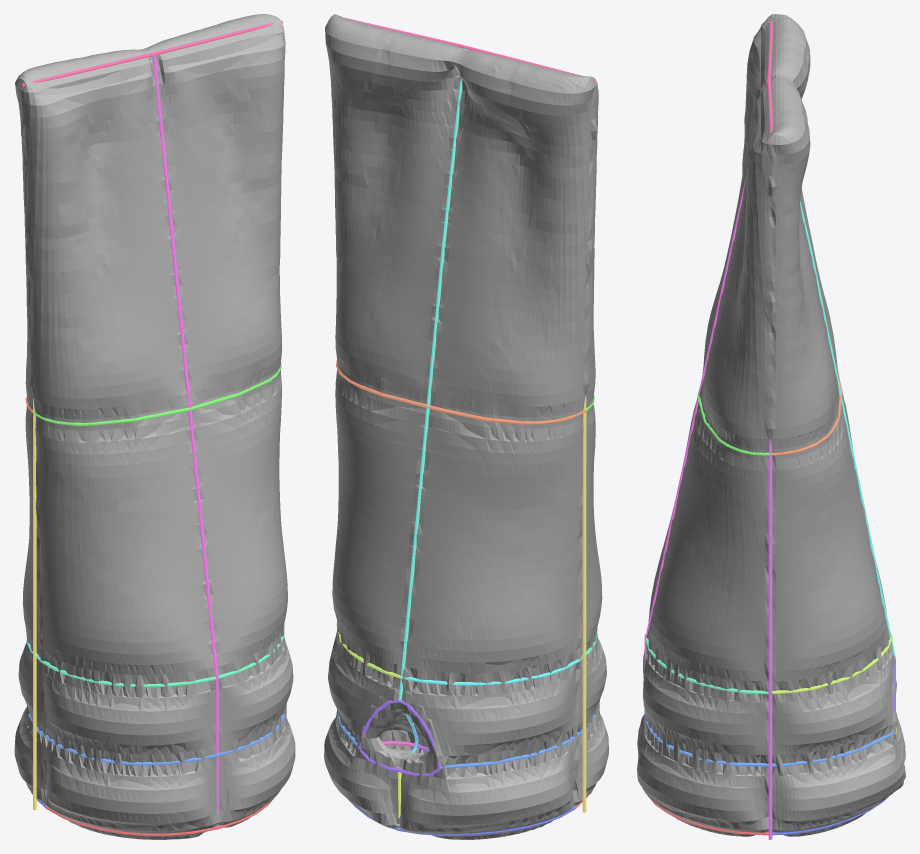
File: t2f_toothpaste.gltf
The picture shows the model from 3 angles, left to right: view 1: azimuth 30°, elevation 25°; view 2: azimuth 150°, elevation 25°; view 3: azimuth 270°, elevation 25°; orthographic projection. The views are drawn at different scales.
Bounding box in the file's own units: 0.3392 × 0.9264 × 0.3097.
